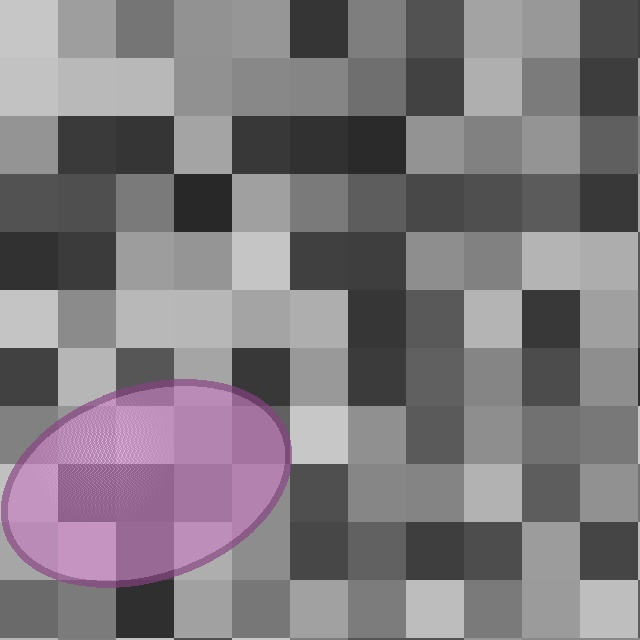lens: (4, 382, 288, 584)
